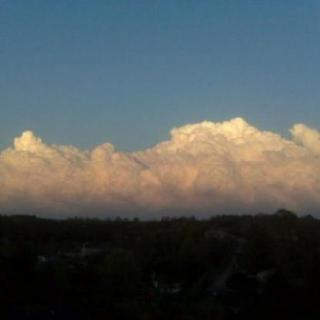Cumulus: (0, 110, 320, 212)
